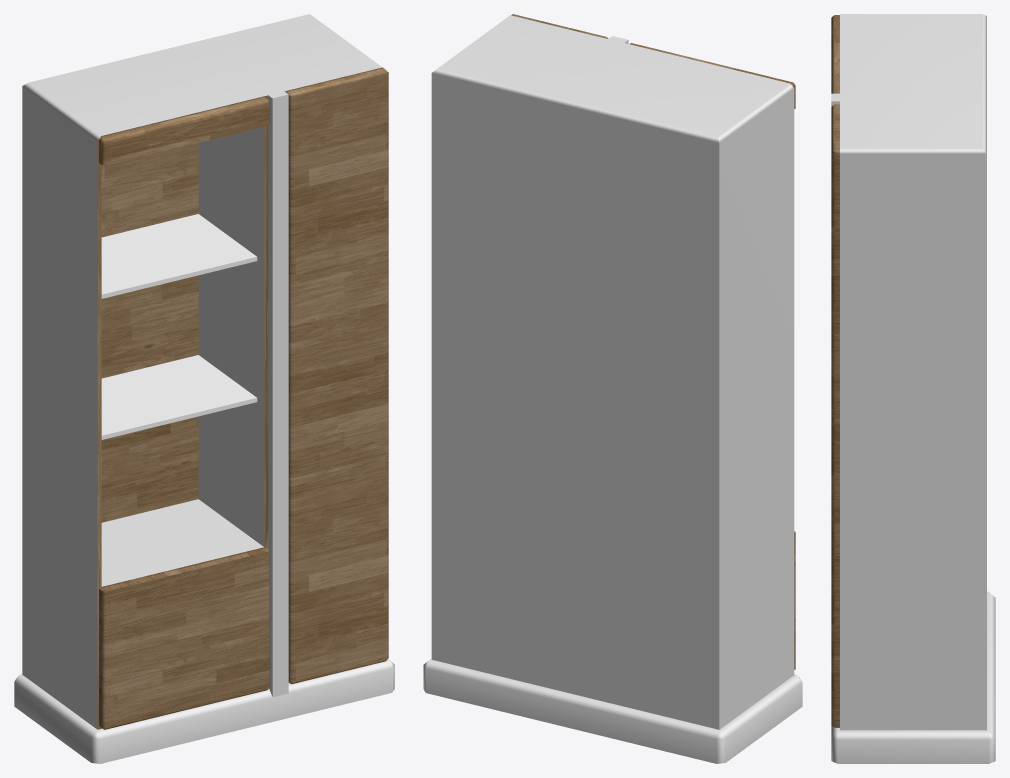
Rendered from wall_cabinet_023.fbx.
3 renders of one model, left to right at view 1: azimuth 30°, elevation 25°; view 2: azimuth 150°, elevation 25°; view 3: azimuth 270°, elevation 25°, orthographic. The views are drawn at different scales.
Visible parts, largest first — view 1: wall_cabinet_023; view 2: wall_cabinet_023; view 3: wall_cabinet_023.
Boxes of the visible parts, <box> form: wall_cabinet_023: <box>14,14,394,763</box>; wall_cabinet_023: <box>423,14,802,763</box>; wall_cabinet_023: <box>831,14,995,763</box>.
Size of the model in its own units: 186 by 88.92 by 365.
